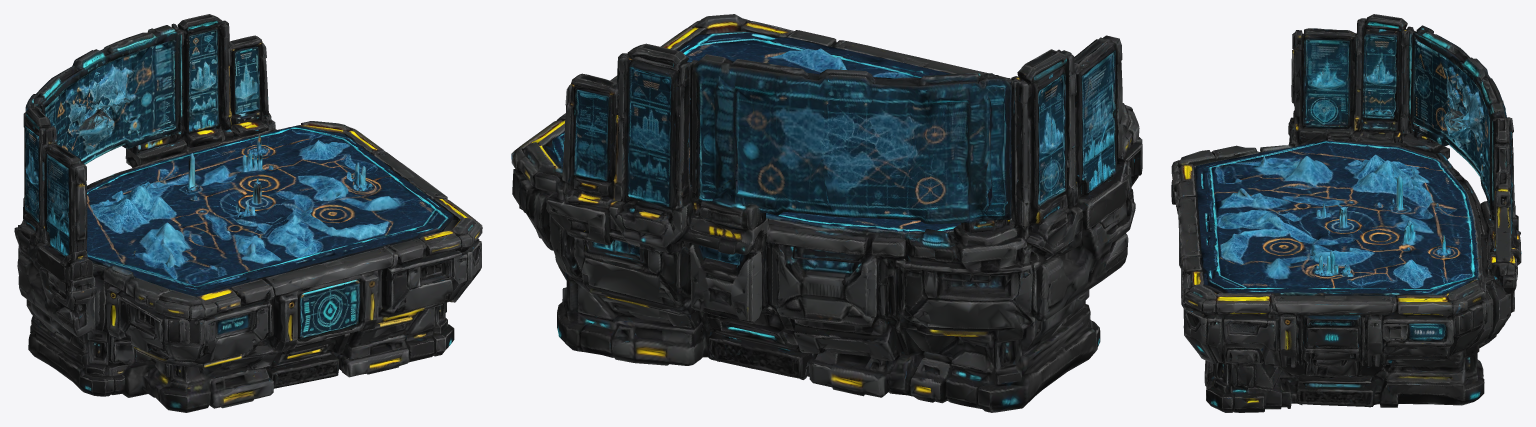
Rendered from war-table.glb.
The picture shows the model from 3 angles, left to right: view 1: azimuth 30°, elevation 25°; view 2: azimuth 150°, elevation 25°; view 3: azimuth 270°, elevation 25°; orthographic projection. The views are drawn at different scales.
Visible parts, largest first — view 1: tactical; view 2: tactical; view 3: tactical.
Boxes of the visible parts, bbox=[...] form: tactical: bbox=[14, 14, 482, 412]; tactical: bbox=[511, 14, 1142, 412]; tactical: bbox=[1171, 14, 1521, 412].
Bounding box in the file's own units: 1.53 × 0.999 × 1.3.
Materials: 1 (1 with a texture image).
